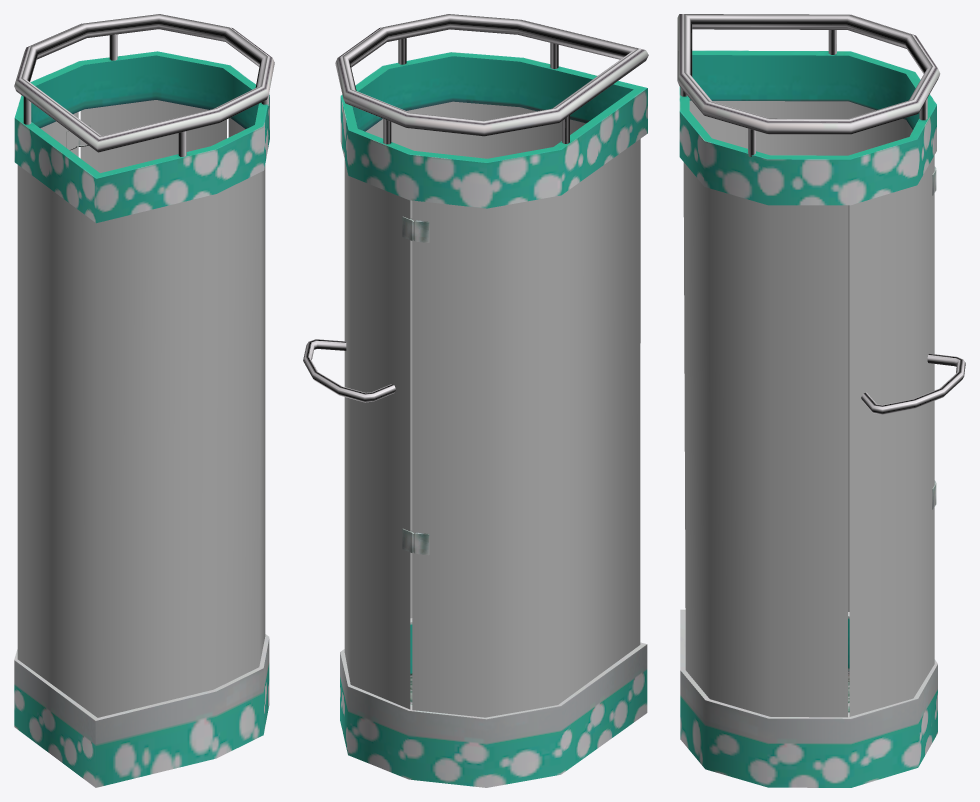
File: furni_0200526_02.FBX
The picture shows the model from 3 angles, left to right: view 1: azimuth 30°, elevation 25°; view 2: azimuth 150°, elevation 25°; view 3: azimuth 270°, elevation 25°; orthographic projection. The views are drawn at different scales.
Visible parts, largest first — view 1: furni_0200526_02; view 2: furni_0200526_02; view 3: furni_0200526_02.
Boxes of the visible parts, left/top/right/bottom form: furni_0200526_02: left=14, top=14, right=274, bottom=787; furni_0200526_02: left=303, top=14, right=648, bottom=787; furni_0200526_02: left=677, top=14, right=965, bottom=787.
Size of the model in its own units: 76.92 by 203 by 79.46.
